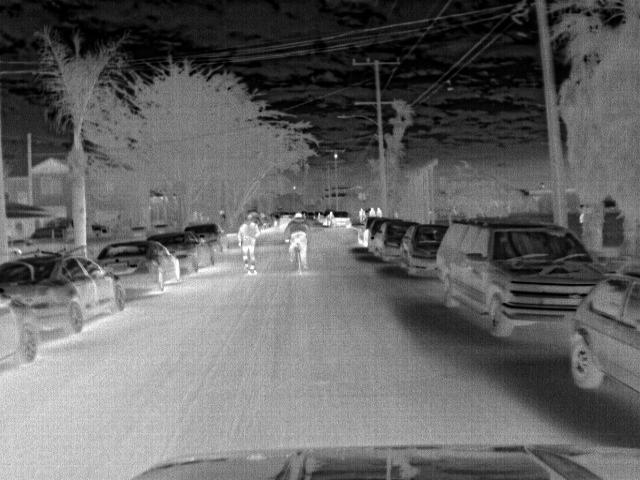car: (437, 219, 614, 343), (2, 254, 127, 339), (565, 268, 640, 403), (97, 239, 181, 296), (397, 223, 447, 282), (146, 233, 213, 274), (2, 294, 36, 373), (9, 224, 74, 256), (373, 222, 419, 264), (184, 222, 229, 257), (366, 219, 392, 253), (357, 216, 379, 246), (331, 209, 352, 228)
person: (236, 213, 258, 273), (287, 210, 309, 268), (357, 207, 370, 225), (368, 204, 380, 218), (375, 206, 387, 218)
